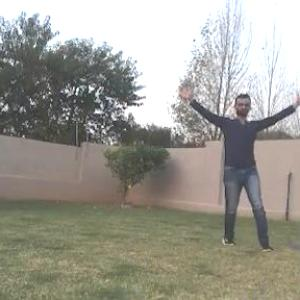takeoff: (168, 86, 296, 242)
